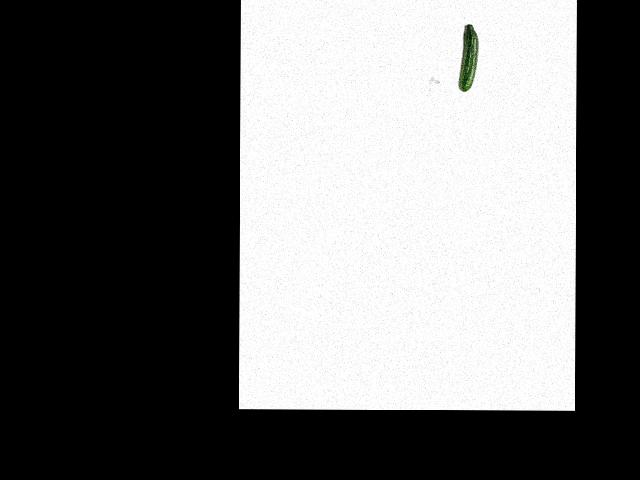cucumber: (458, 24, 478, 92)
